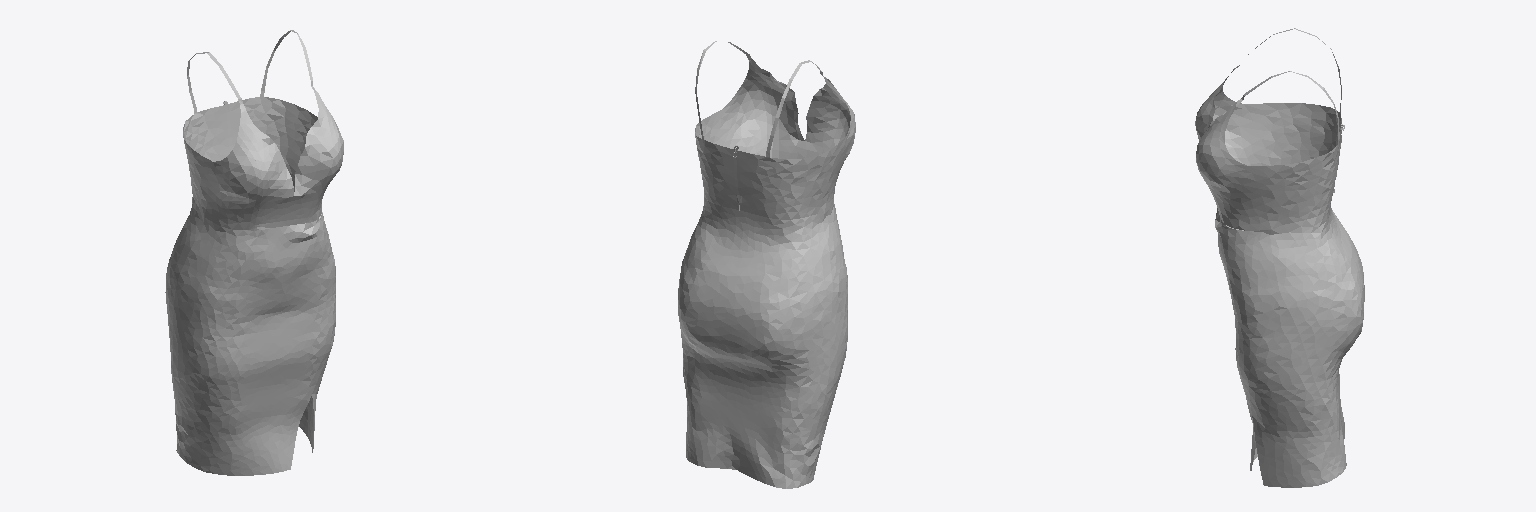
Rendered from small_roseDress_noinside5.obj.
The picture shows the model from 3 angles: view 1: azimuth 30°, elevation 25°; view 2: azimuth 150°, elevation 25°; view 3: azimuth 270°, elevation 25°; orthographic projection.
Parts seen in each view (by area): view 1: small_roseDress_noinside:polySurface2 small_roseDress_noinside:p; view 2: small_roseDress_noinside:polySurface2 small_roseDress_noinside:p; view 3: small_roseDress_noinside:polySurface2 small_roseDress_noinside:p.
Part boxes in pixels (x1,y1,x2,y2): small_roseDress_noinside:polySurface2 small_roseDress_noinside:p: (165,30,343,475); small_roseDress_noinside:polySurface2 small_roseDress_noinside:p: (678,41,855,488); small_roseDress_noinside:polySurface2 small_roseDress_noinside:p: (1195,28,1364,487).
Size of the model in its own units: 8.16 by 21.95 by 8.11.